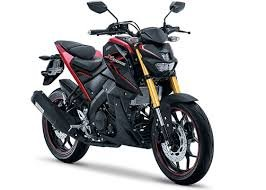motor: (34, 19, 225, 179)
